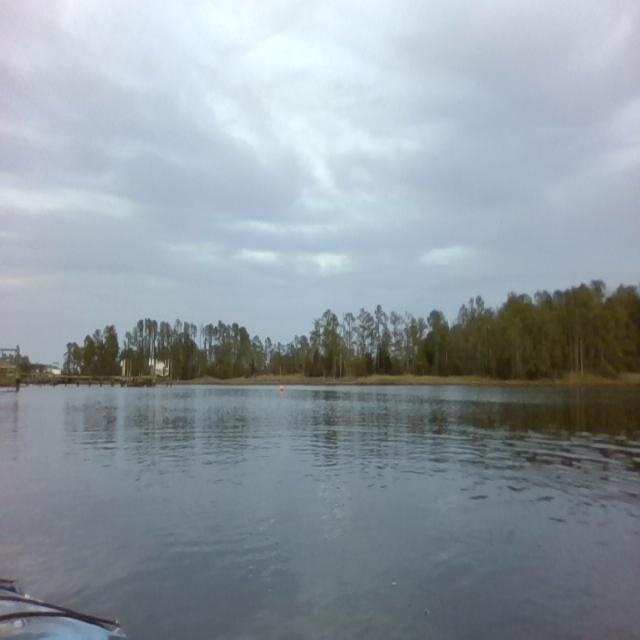Buoy: (278, 383, 286, 394)
